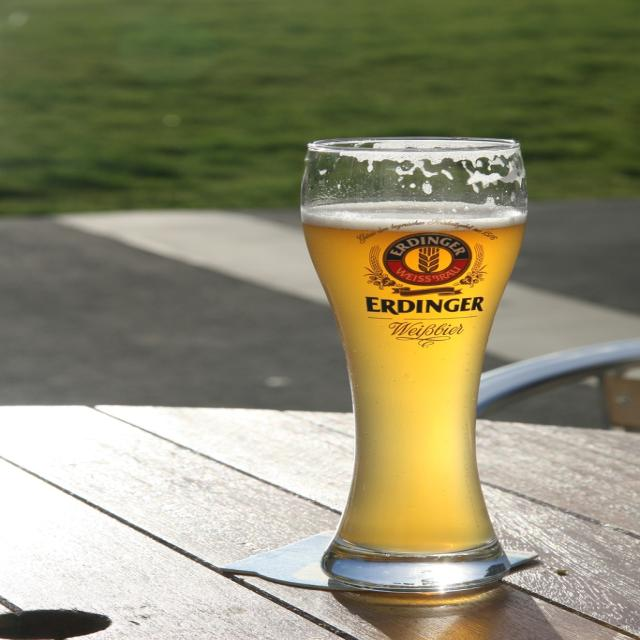erdinger: (352, 218, 504, 323)
